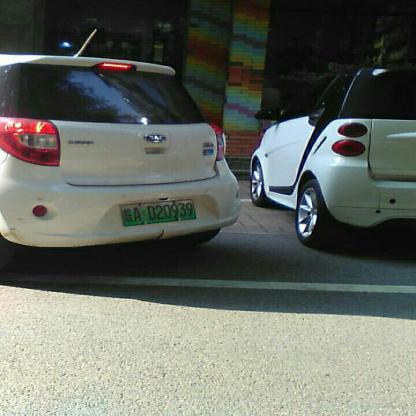lp: (117, 198, 196, 225)
